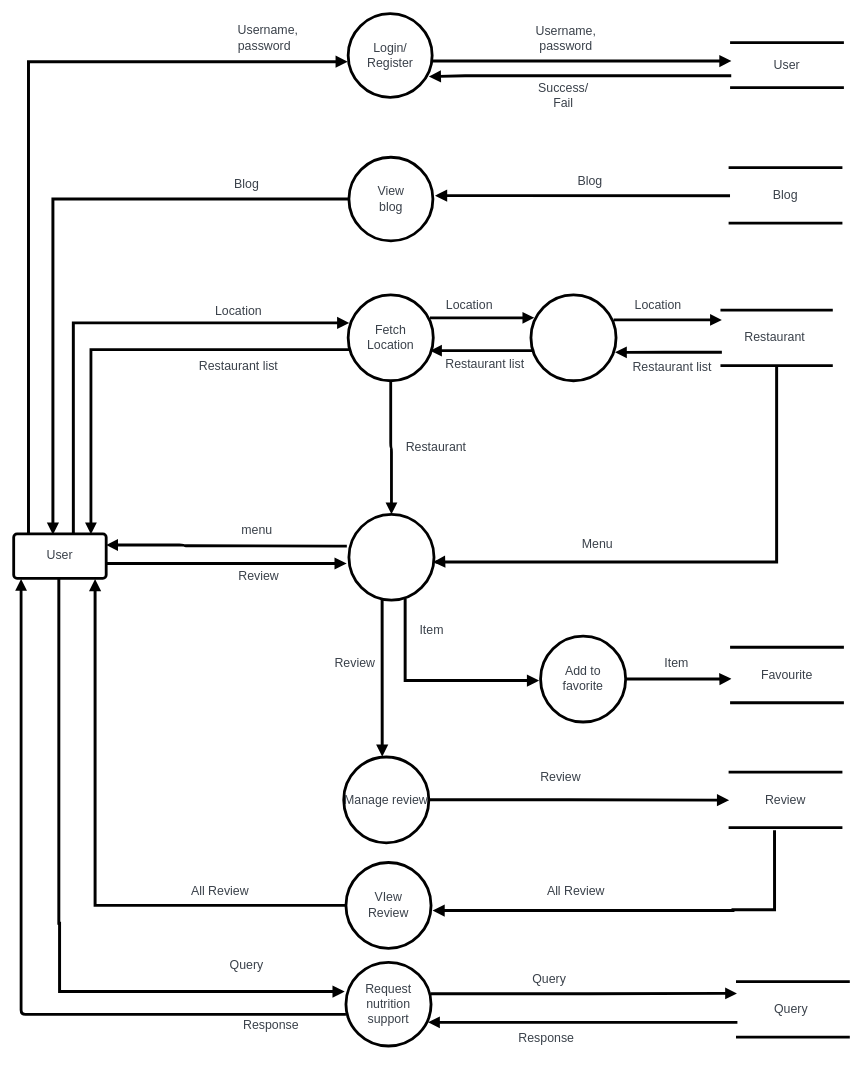
The diagram is 863 pixels wide and 1073 high, and some of its shapes have lost their labels. The shapes that lost their labels are listed below. From the top down, each one's box as (x1, y1, x2, y2) in pixels, then its label:
(529, 293, 617, 382): 4.1 Verify location
(347, 513, 435, 601): View restaurant
